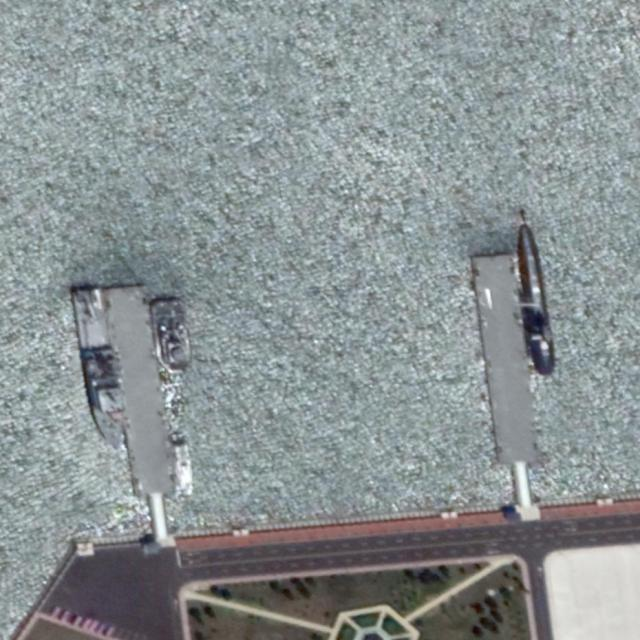Other Warship: (83, 345, 134, 451), (149, 296, 195, 373)
Submarine: (506, 221, 561, 378)
